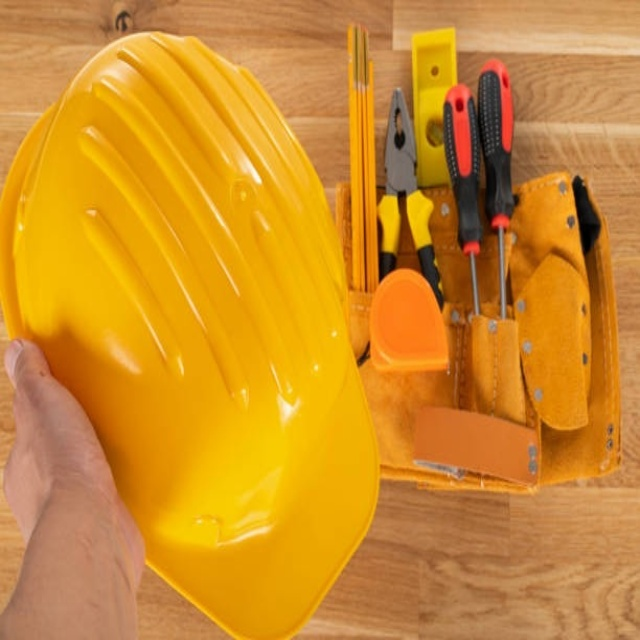Sin_guantes: (1, 337, 147, 640)
